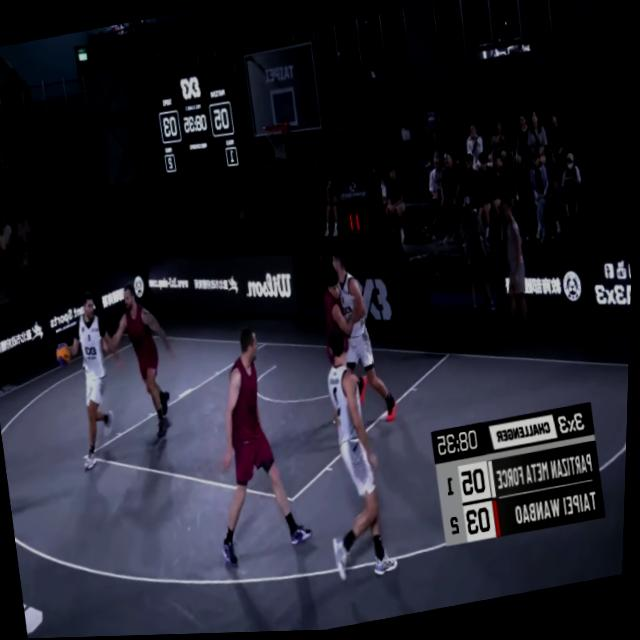ball: (54, 337, 76, 375)
hoop: (261, 118, 297, 168)
player: (189, 317, 326, 576), (307, 327, 407, 589), (323, 245, 410, 430), (57, 290, 145, 472), (98, 278, 190, 446), (316, 262, 384, 430)
